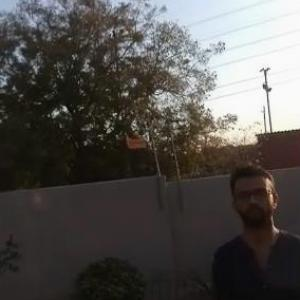follow: (207, 149, 300, 299)
